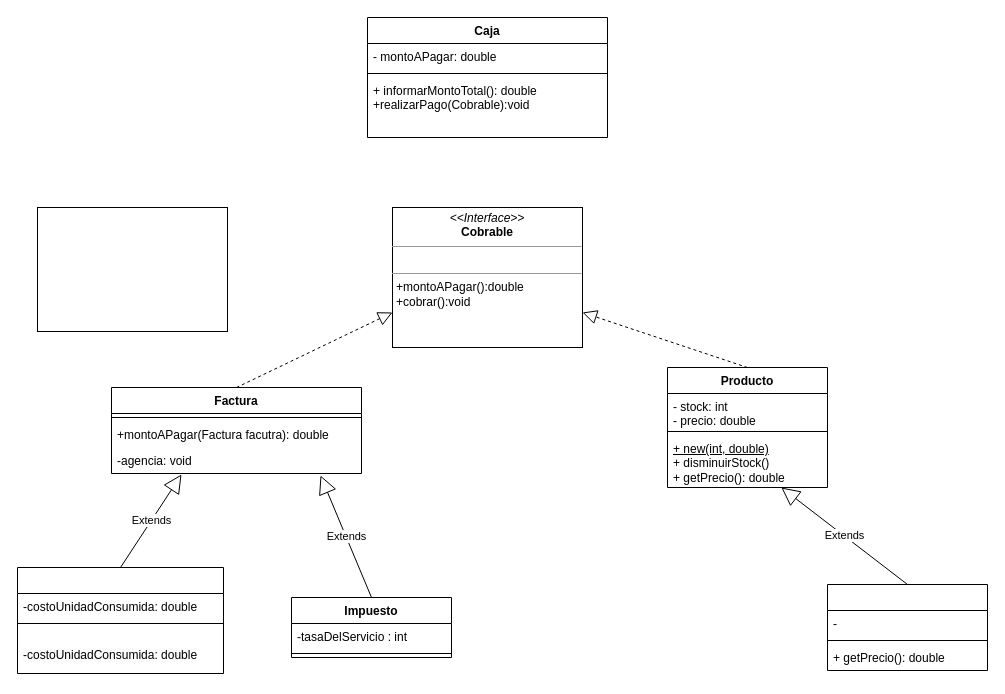
This 1005x694 diagram has some shape labels left out. Here are the shapes that lost their labels. From the top down, the box of each, then its label:
(36, 206, 228, 332): <<Interface>> Agencia + registrarPago(Facutra factura)
(16, 566, 224, 674): Servicio
(826, 584, 988, 670): ProductoCooperativa
